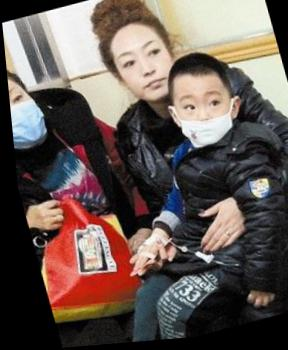NONE: (113, 37, 177, 106)
OK: (7, 77, 53, 156)
WRONG: (167, 84, 238, 154)
